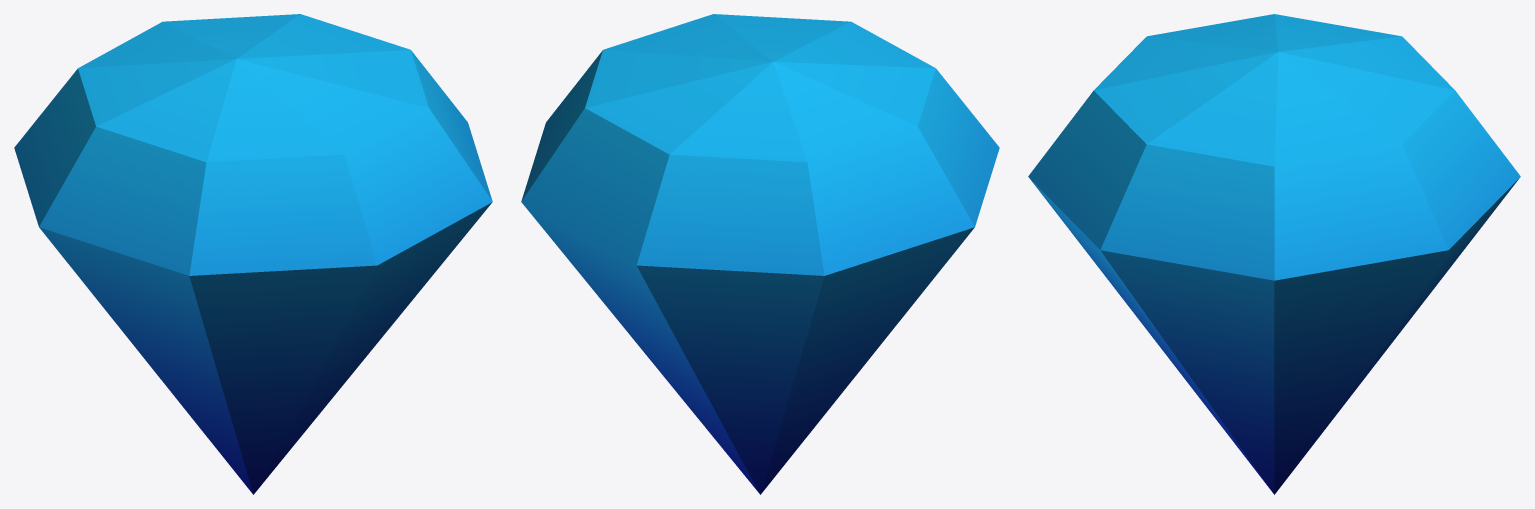
The model's file is diamante.obj.
3 views of the same model, side by side, from view 1: azimuth 30°, elevation 25°; view 2: azimuth 150°, elevation 25°; view 3: azimuth 270°, elevation 25° (orthographic).
Parts seen in each view (by area): view 1: Circle; view 2: Circle; view 3: Circle.
Part boxes in pixels (x1,y1,x2,y2): Circle: [14, 14, 492, 494]; Circle: [521, 14, 999, 494]; Circle: [1028, 14, 1520, 494].
Bounding box in the file's own units: 2 × 1.95 × 2.
